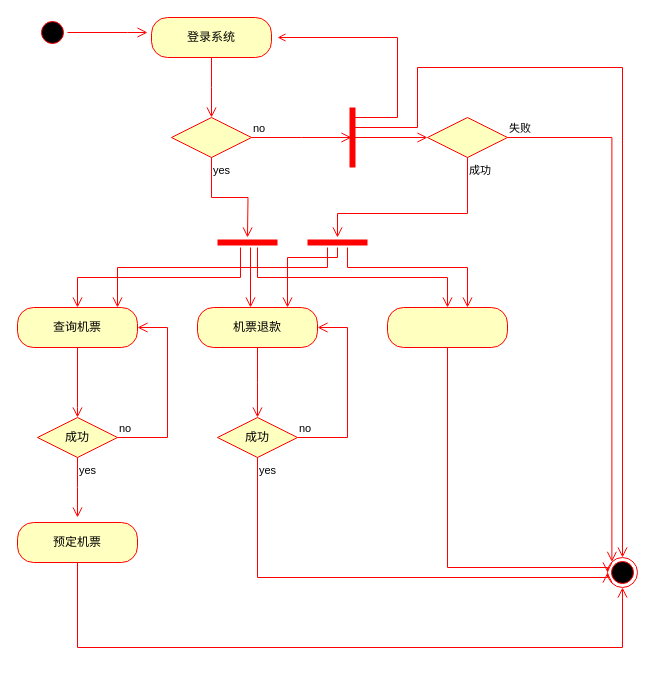
Image size: 655x675. Some labels were removed from this diagram. The centre of each missing label's shape, as x and y in pixels:
"密码错误" goes at (211,137).
"打印机票" goes at (447,327).
"找回密码" goes at (467,137).
